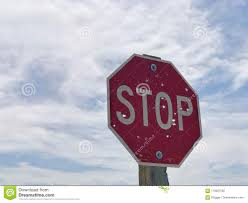Stop: (98, 40, 217, 163)
